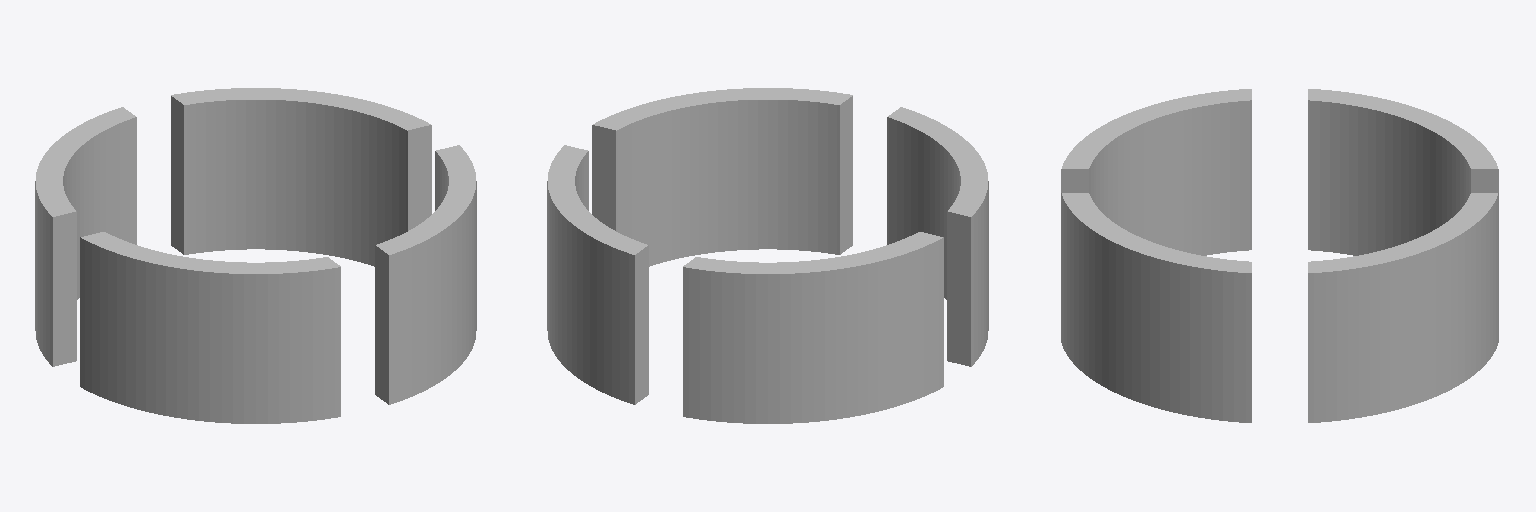
The model's file is life bangle.obj.
3 renders of one model, left to right at view 1: azimuth 30°, elevation 25°; view 2: azimuth 150°, elevation 25°; view 3: azimuth 270°, elevation 25°, orthographic.
Visible parts, largest first — view 1: Object.1, Object.3, Object.4, Object.2; view 2: Object.2, Object.4, Object.3, Object.1; view 3: Object.3, Object.4, Object.1, Object.2.
Boxes of the visible parts, x1,y1,x2,y2 form: Object.1: [80, 232, 340, 423]; Object.3: [171, 88, 431, 266]; Object.4: [375, 145, 476, 404]; Object.2: [35, 107, 136, 366]; Object.2: [683, 232, 943, 423]; Object.4: [592, 88, 852, 266]; Object.3: [547, 145, 648, 404]; Object.1: [887, 107, 988, 366]; Object.3: [1308, 193, 1498, 422]; Object.4: [1061, 193, 1251, 422]; Object.1: [1061, 89, 1251, 255]; Object.2: [1308, 89, 1498, 255].
Bounding box in the file's own units: 39.67 × 15 × 39.67.